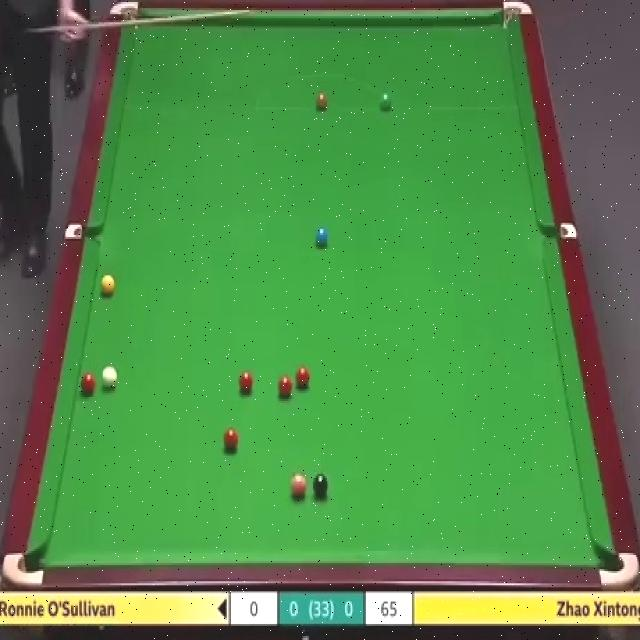black-ball: (313, 473, 329, 499)
blue-ball: (314, 225, 329, 248)
brown-ball: (315, 92, 328, 112)
green-ball: (380, 90, 392, 114)
pink-ball: (289, 472, 308, 500)
red-ball: (277, 374, 294, 402), (222, 427, 240, 452), (239, 369, 255, 397), (80, 371, 95, 397), (296, 365, 310, 391)
white-ball: (100, 362, 118, 390)
yellow-ball: (100, 274, 114, 297)
